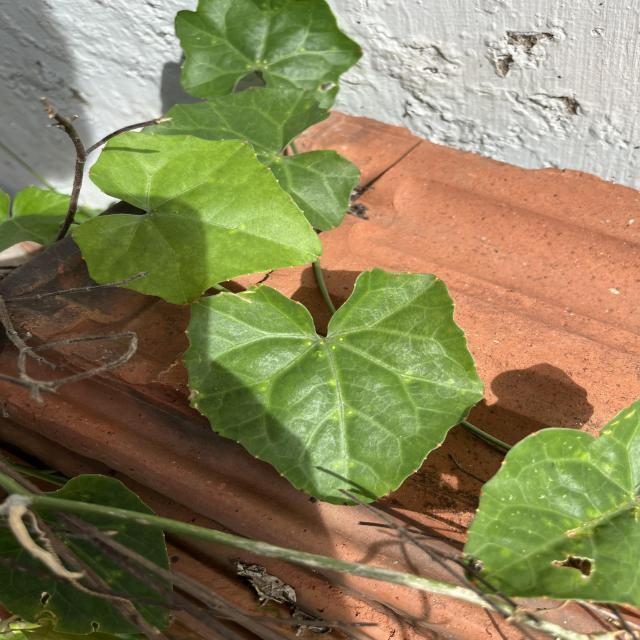Coccinia grandis: (178, 265, 488, 508), (70, 130, 325, 308)
